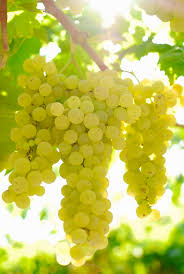grapes: (69, 72, 119, 252), (15, 59, 68, 214), (123, 82, 173, 217)
